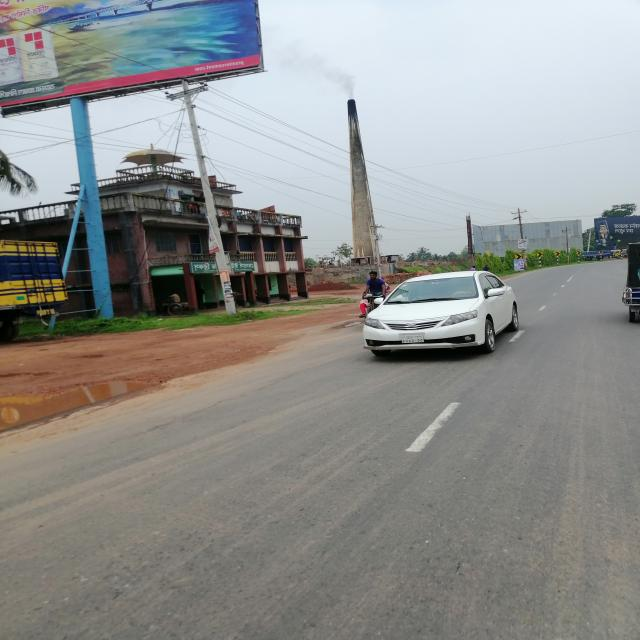Car: (359, 270, 526, 368)
